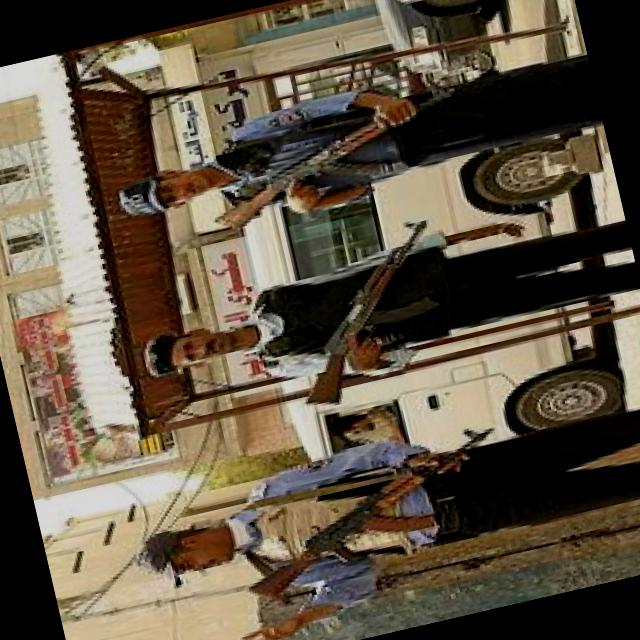long weapon: (230, 410, 540, 614), (204, 62, 483, 234), (280, 222, 464, 414)
